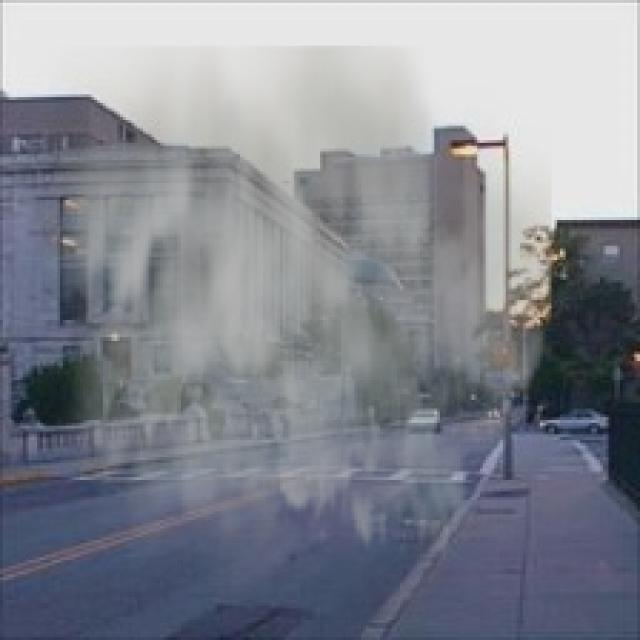Smoke: (26, 46, 552, 612)
